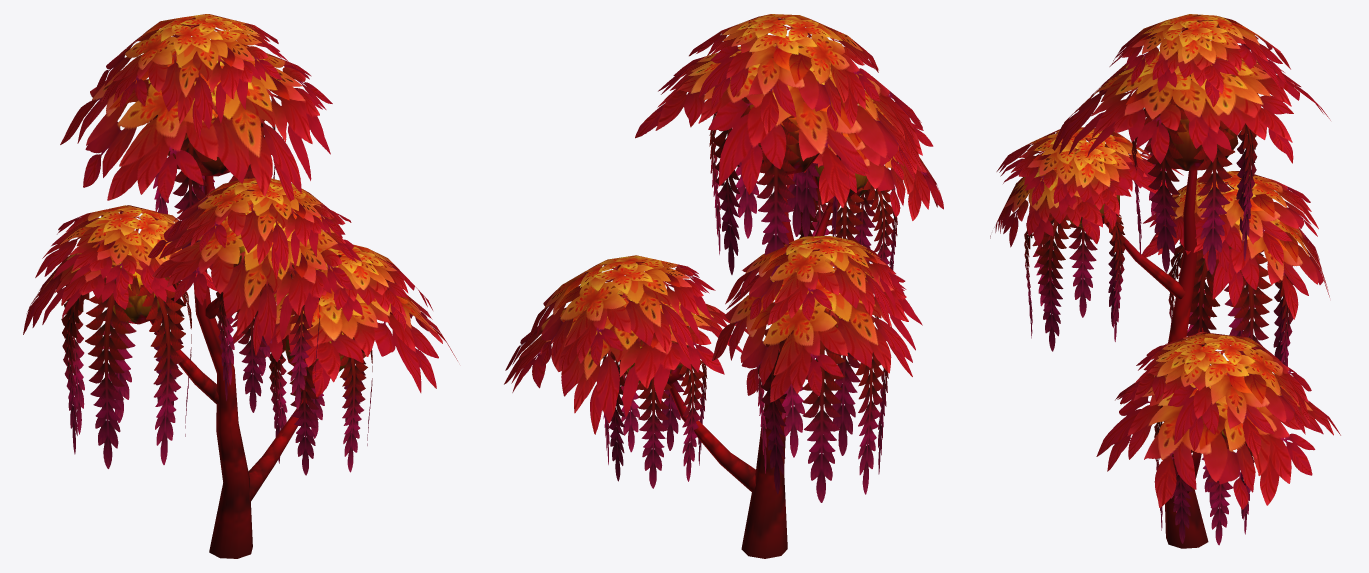
File: Red_Tree_09a.FBX
3 views of the same model, side by side, from view 1: azimuth 30°, elevation 25°; view 2: azimuth 150°, elevation 25°; view 3: azimuth 270°, elevation 25° (orthographic). The views are drawn at different scales.
Parts seen in each view (by area): view 1: Red_Tree_09a; view 2: Red_Tree_09a; view 3: Red_Tree_09a.
Part boxes in pixels (<box>): Red_Tree_09a: <box>23,14,457,558</box>; Red_Tree_09a: <box>504,14,943,558</box>; Red_Tree_09a: <box>990,14,1340,548</box>.
Size of the model in its own units: 322 by 389 by 261.
